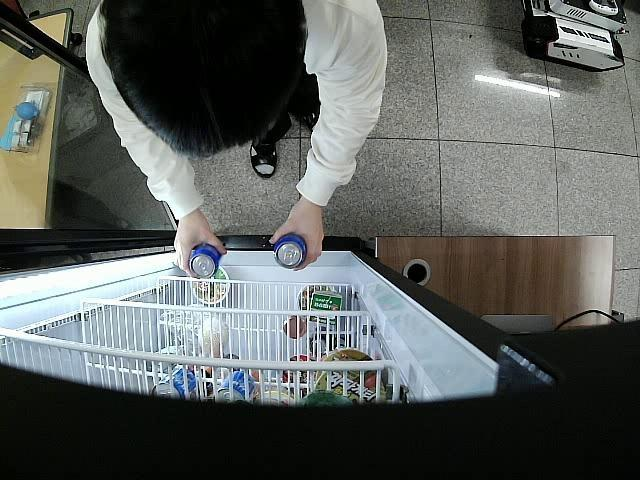13_pocariSweat: (274, 234, 306, 270), (190, 244, 222, 279)
